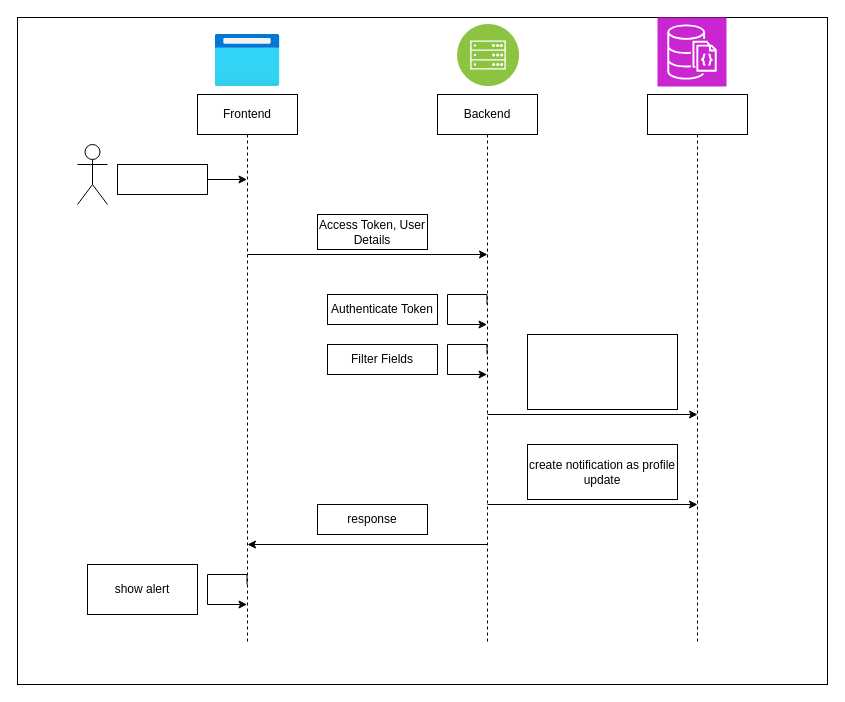
Image size: 845x702. Some labels were removed from this diagram. Each missing label, with the box of its shape:
Database: (646, 94, 748, 644)
update user (for admin->update, for farmer->update if account not deleted): (526, 334, 678, 410)
User: (76, 144, 108, 204)
User Details: (116, 164, 208, 194)
